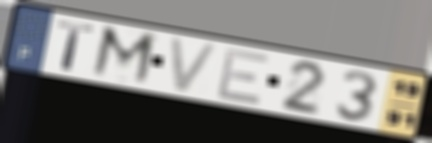2: (278, 59, 329, 118)
3: (333, 70, 381, 124)
E: (213, 47, 273, 108)
M: (87, 23, 161, 89)
T: (55, 19, 98, 73)
V: (167, 34, 224, 96)
